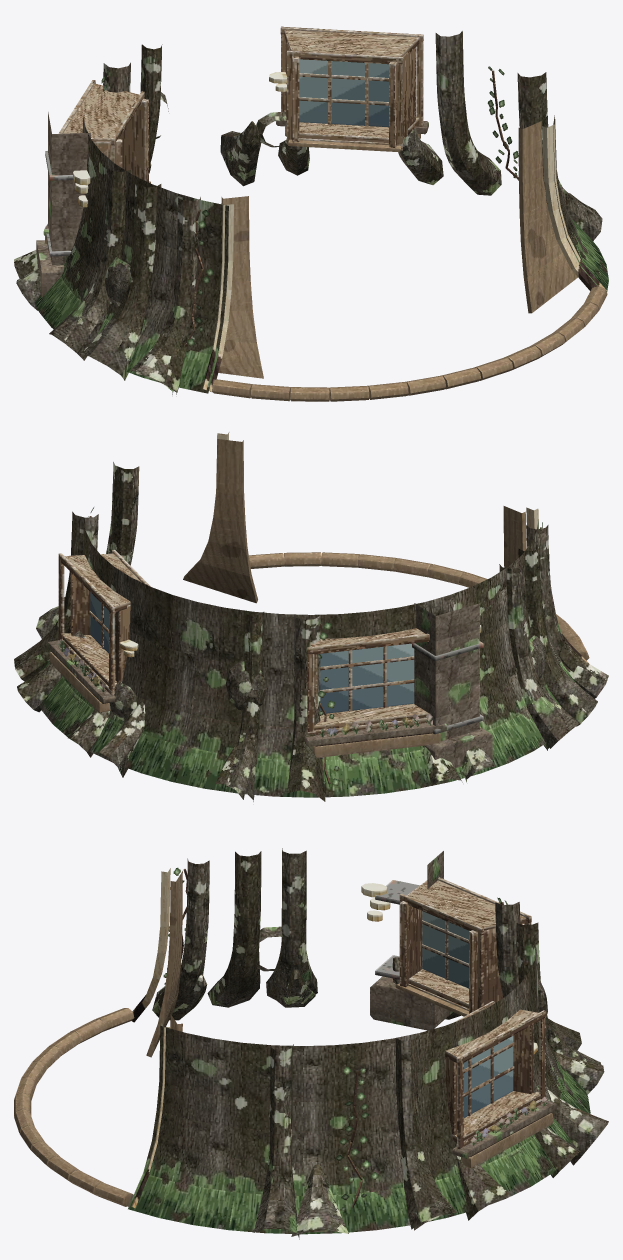
File: trunk_f1.glb
3 renders of one model, top to bottom at view 1: azimuth 30°, elevation 25°; view 2: azimuth 150°, elevation 25°; view 3: azimuth 270°, elevation 25°, orthographic. The views are drawn at different scales.
Parts seen in each view (by area): view 1: tile_bark, tile_wood, solid, tile_stone, pane, card; view 2: tile_bark, tile_wood, tile_stone, solid, pane, card; view 3: tile_bark, tile_wood, solid, pane, tile_stone, card.
Boxes of the visible parts, x1=… form: tile_bark: x1=14, y1=31, x2=608, y2=394; tile_wood: x1=45, y1=26, x2=607, y2=401; solid: x1=45, y1=70, x2=606, y2=391; tile_stone: x1=36, y1=112, x2=594, y2=400; pane: x1=299, y1=59, x2=388, y2=127; card: x1=101, y1=66, x2=518, y2=346; tile_bark: x1=14, y1=462, x2=608, y2=801; tile_wood: x1=49, y1=550, x2=589, y2=757; tile_stone: x1=47, y1=603, x2=492, y2=768; solid: x1=52, y1=432, x2=588, y2=784; pane: x1=90, y1=592, x2=414, y2=713; card: x1=58, y1=507, x2=542, y2=786; tile_bark: x1=128, y1=848, x2=608, y2=1239; tile_wood: x1=14, y1=877, x2=552, y2=1206; solid: x1=131, y1=868, x2=550, y2=1208; pane: x1=422, y1=911, x2=513, y2=1117; tile_stone: x1=127, y1=851, x2=557, y2=1206; card: x1=163, y1=867, x2=547, y2=1210.
Bounding box in the file's own units: 221 × 74.38 × 215.
3 materials, 3 textured.
